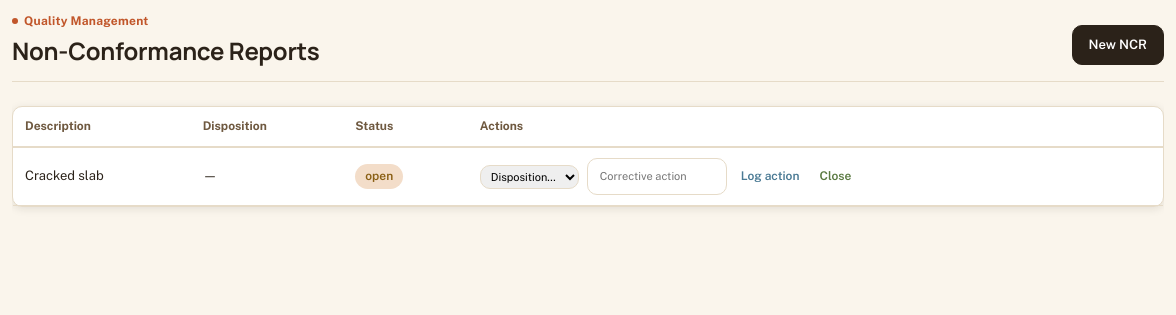
Test: NCRsPage › shows the real business-rule error when a real NCR cannot yet be closed
Check: the text "Cracked slab" is shown, box [13,147,191,206]
Click the button "Close" at (835, 176), box [814,166,857,187]
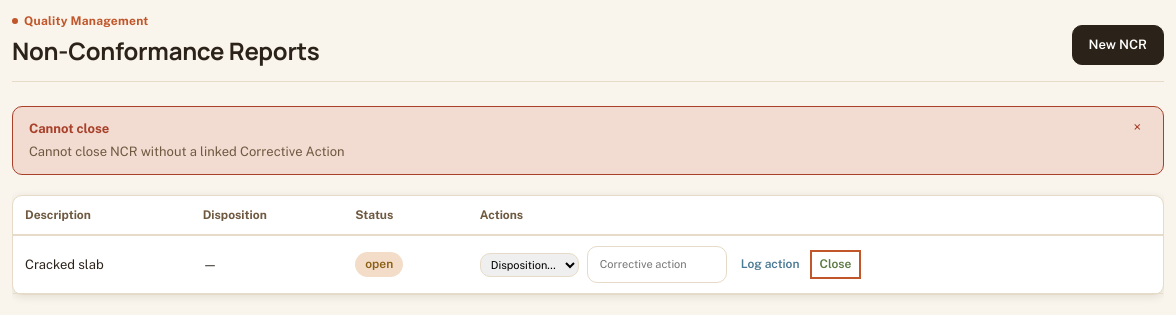
Check: the text "Cannot close NCR without a linked Corrective Action" is shown, box [29,142,344,162]
